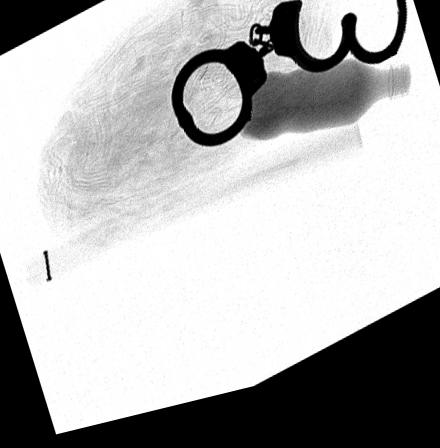HandCuffs: (170, 11, 407, 156)
